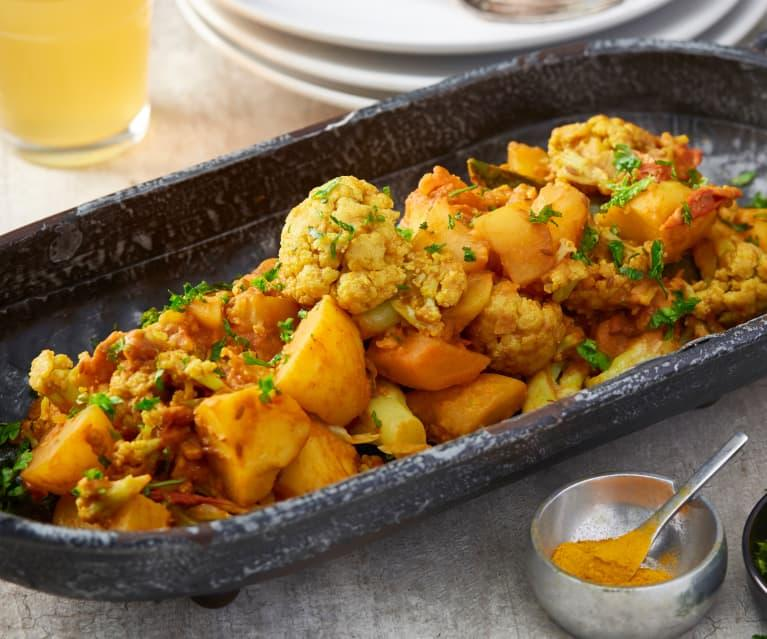aloo gobhi: (47, 185, 708, 423)
